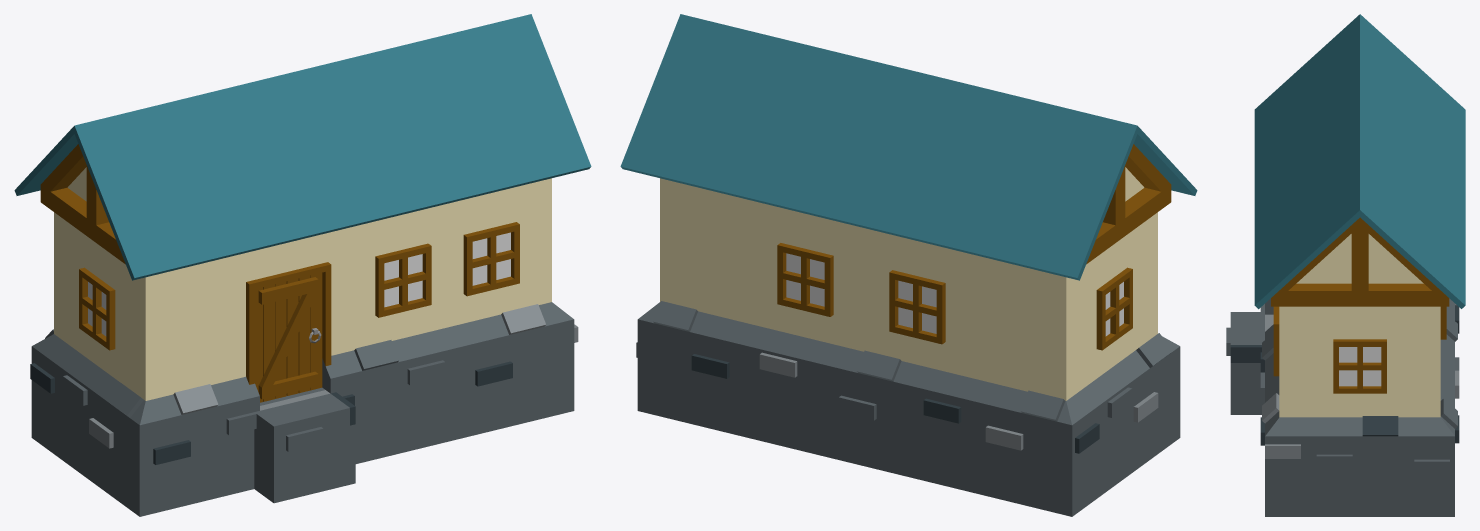
Rendered from CasaAzul.fbx.
The picture shows the model from 3 angles, left to right: view 1: azimuth 30°, elevation 25°; view 2: azimuth 150°, elevation 25°; view 3: azimuth 270°, elevation 25°; orthographic projection. The views are drawn at different scales.
Visible parts, largest first — view 1: House body, Roof, Door, Windows; view 2: House body, Roof, Windows; view 3: Roof, House body, Windows.
Part boxes in pixels (box(x1,y1,x2,y2)): House body: box(30, 178, 578, 516); Roof: box(14, 14, 591, 280); Door: box(246, 262, 331, 402); Windows: box(79, 222, 519, 350); House body: box(636, 178, 1180, 516); Roof: box(620, 14, 1197, 280); Windows: box(777, 243, 1132, 350); Roof: box(1254, 14, 1465, 309); House body: box(1226, 298, 1459, 516); Windows: box(1273, 306, 1446, 393).
Bounding box in the file's own units: 809 × 600 × 417.
